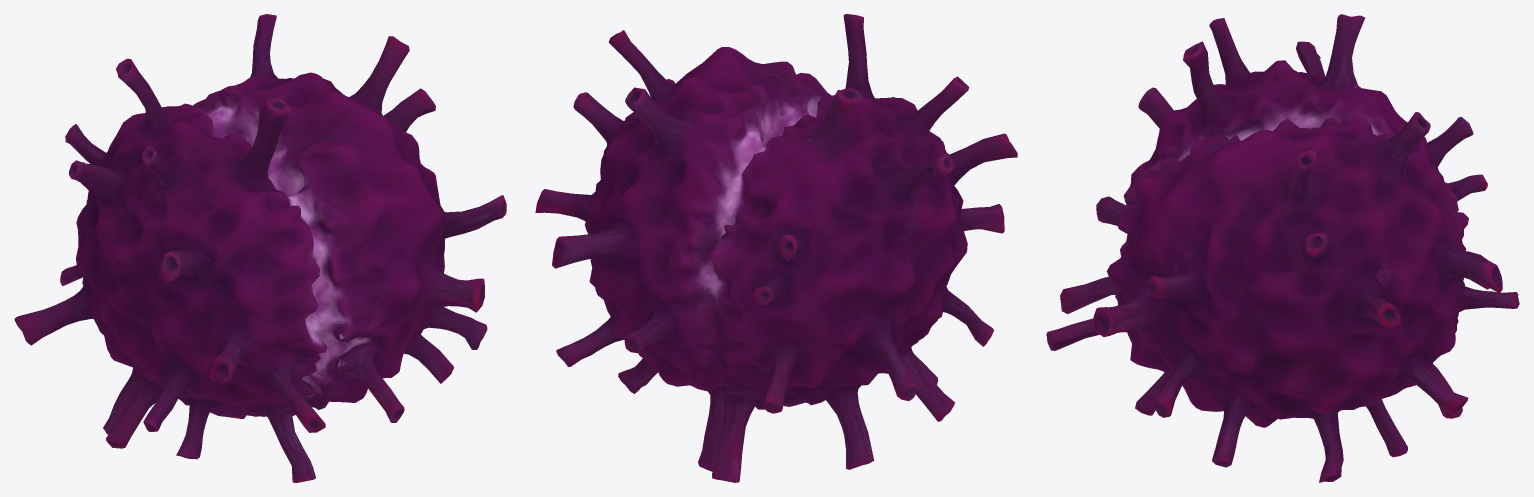
The model's file is splitter.glb.
The picture shows the model from 3 angles, left to right: view 1: azimuth 30°, elevation 25°; view 2: azimuth 150°, elevation 25°; view 3: azimuth 270°, elevation 25°; orthographic projection.
Parts seen in each view (by area): view 1: attack-membrane; view 2: attack-membrane; view 3: attack-membrane.
Part boxes in pixels (box(x1,y1,x2,y2)): attack-membrane: box(14, 14, 506, 482); attack-membrane: box(535, 14, 1017, 482); attack-membrane: box(1046, 14, 1519, 482).
Size of the model in its own units: 1.88 by 1.87 by 2.04.
1 material, 1 textured.
